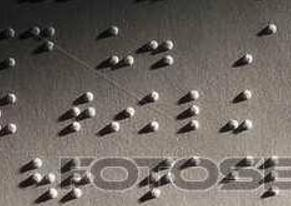Braille: (228, 22, 254, 65), (109, 89, 135, 132), (147, 25, 174, 66), (228, 154, 253, 198), (32, 157, 58, 199), (70, 91, 96, 132), (5, 93, 31, 134), (150, 157, 175, 199), (189, 89, 213, 132), (189, 156, 212, 200), (229, 88, 252, 131), (30, 26, 55, 65), (111, 24, 134, 66), (148, 90, 171, 132), (71, 157, 94, 199), (268, 23, 290, 66), (6, 27, 28, 68), (268, 155, 290, 196)
